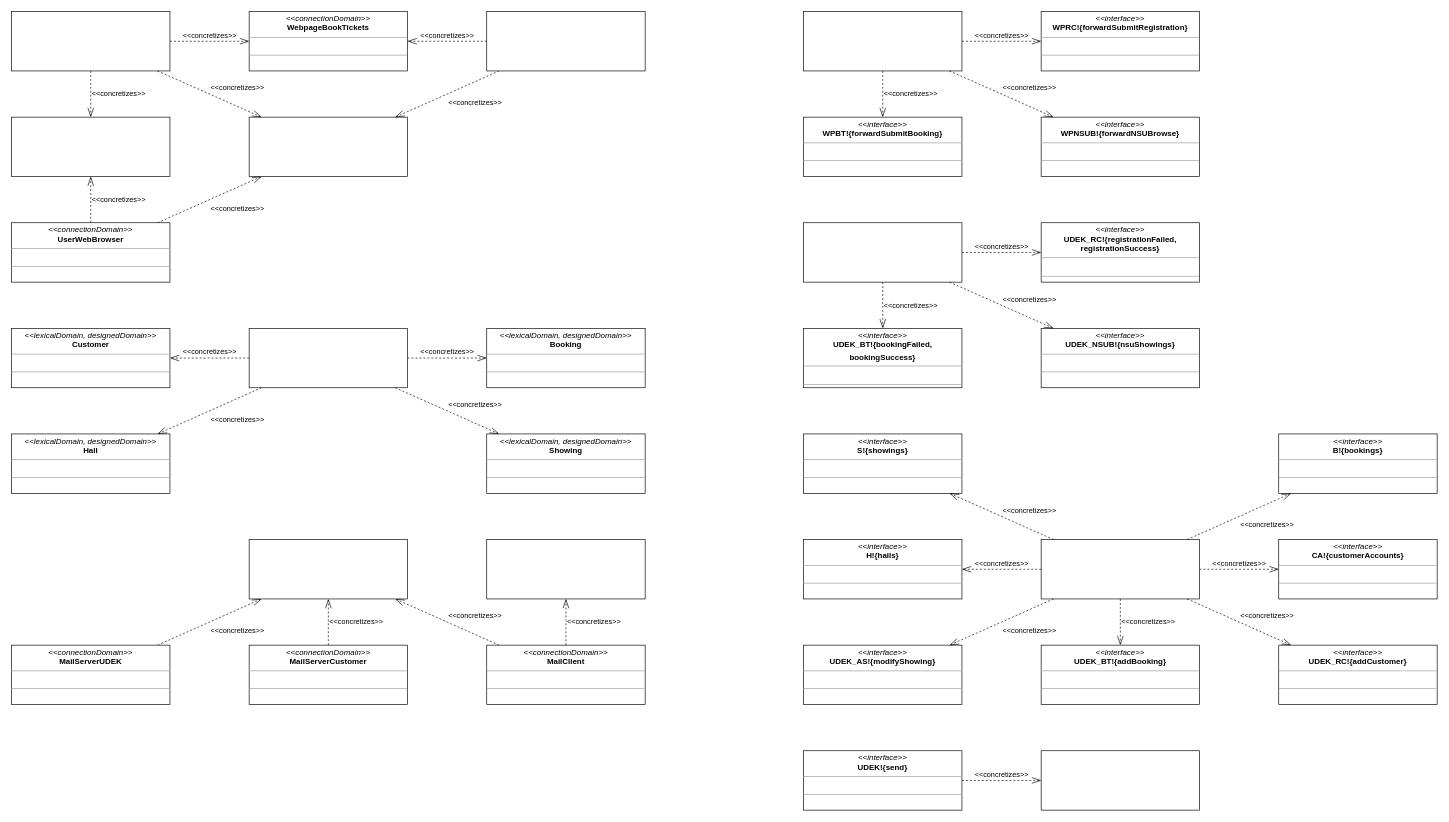
Image size: 1449x822. Some labels were removed from this diagram. The shapes that lost their labels are listed below. From the top down, each one's centre as x and y in pixels, then its label:
At point 90,41: "<<connectionDomain>> ApacheTomcat".
At point 565,41: "<<connectionDomain>> CustomerWebBrowser".
At point 882,41: "<<interface>> AT!{doGet, doPost}".
At point 90,146: "<<connectionDomain>> WebpageRegisterCustomer".
At point 328,146: "<<connectionDomain, designedDomain>> WebpageNonStaffUserBrowse".
At point 882,252: "<<interface>> UDEK!{forward}".
At point 328,358: "<<causalDomain>> SQLDatabase".
At point 328,569: "<<causalDomain, connectionDomain>> Email".
At point 565,569: "<<interface>> E!{displayNotification}".
At point 1120,569: "<<interface>> UDEK!{executeQuery, executeUpdate}".
At point 1120,780: "<<interface>> UDEK!{notifyCustomer}".
